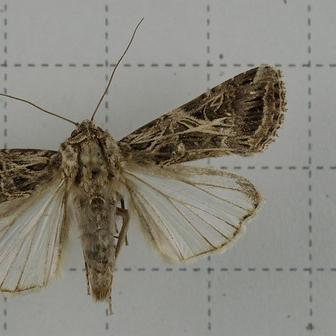Spodoptera litura: (1, 17, 289, 315)
